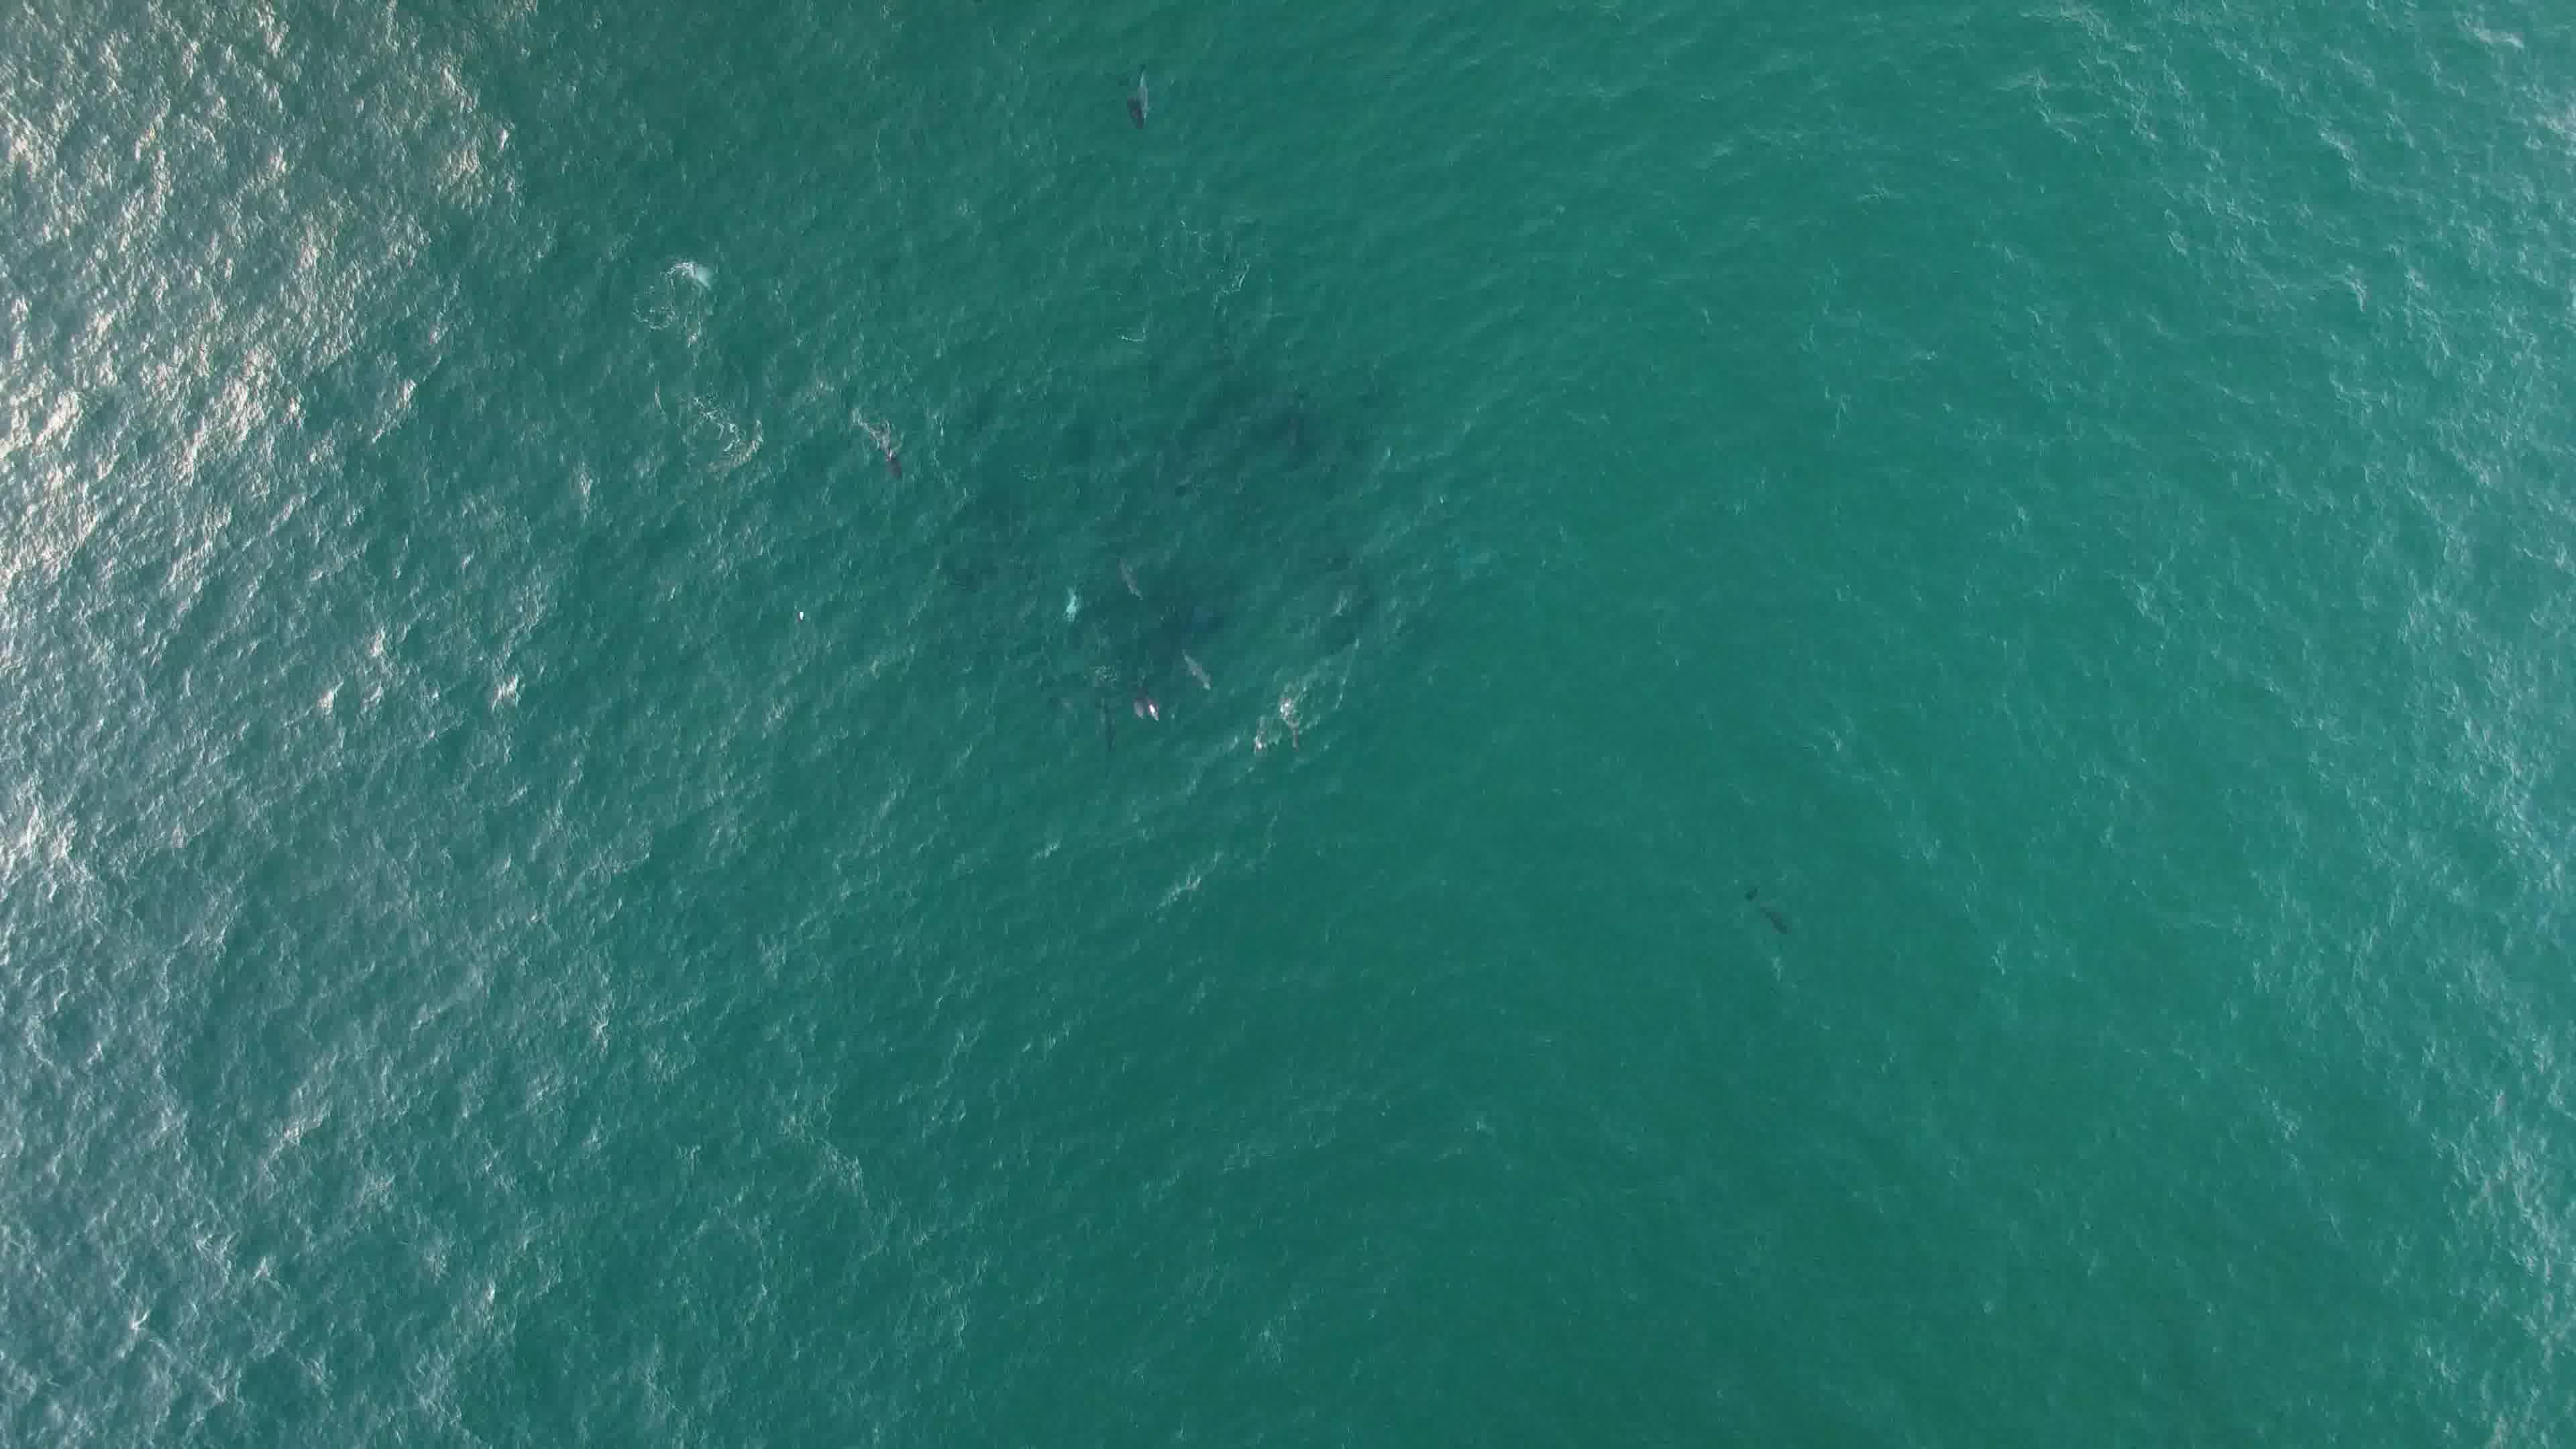dolphin: (1721, 863, 1808, 955), (1100, 51, 1161, 147), (1258, 678, 1318, 763), (1093, 538, 1150, 610), (860, 412, 909, 487), (1164, 621, 1214, 692), (1118, 669, 1166, 736)
